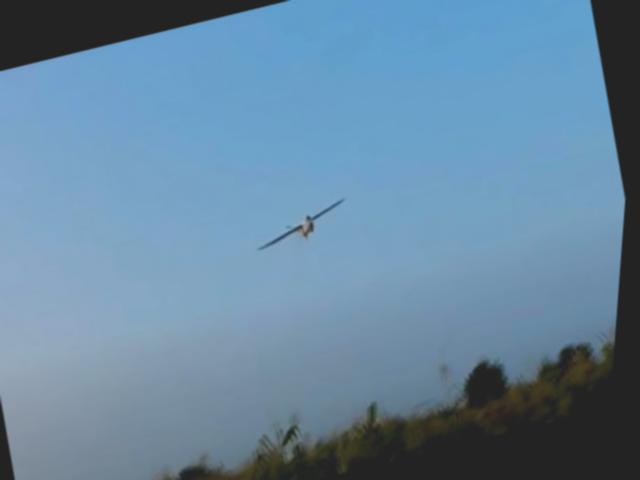iha: (255, 200, 354, 250)
